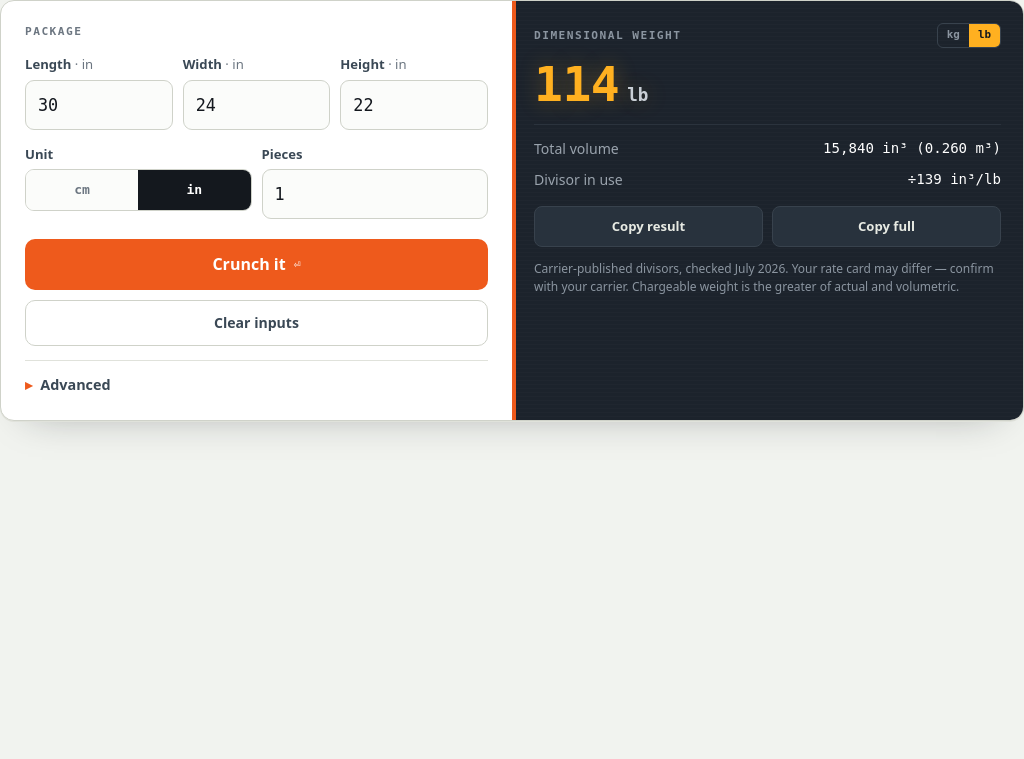
DimWeightCalculator (calculator.dimensional_weight) › comes up in the record's unit system: unit, mode, and divisor defaults
expect the button "in" is shown: met, box [138, 170, 251, 210]
expect the button "lb" is shown: met, box [969, 24, 1000, 47]
Click the button "▸ Advanced" at (75, 384), box [25, 360, 488, 396]
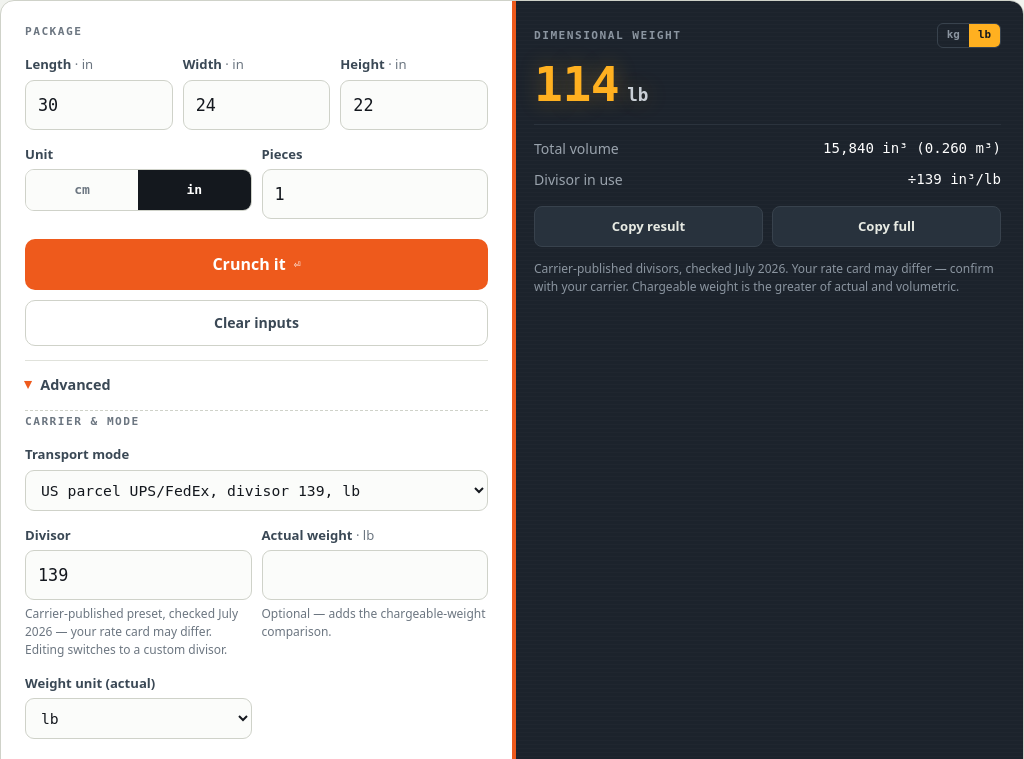
expect the dropdown labelled "Transport mode" shows "US parcel UPS/FedEx, divisor 139, lb": met, box [25, 470, 488, 511]
expect the number field labelled "Divisor" holds "139": met, box [25, 550, 252, 600]
